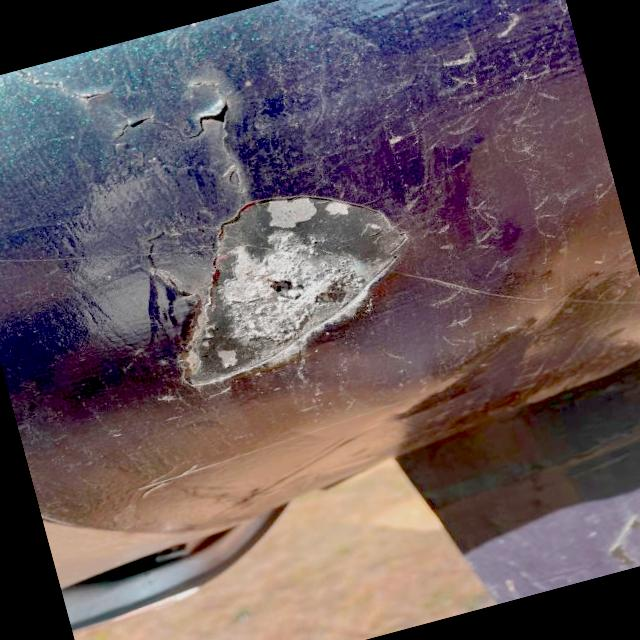crack: (12, 46, 128, 120), (178, 94, 244, 146), (98, 104, 160, 150)
dent: (132, 152, 455, 402)
